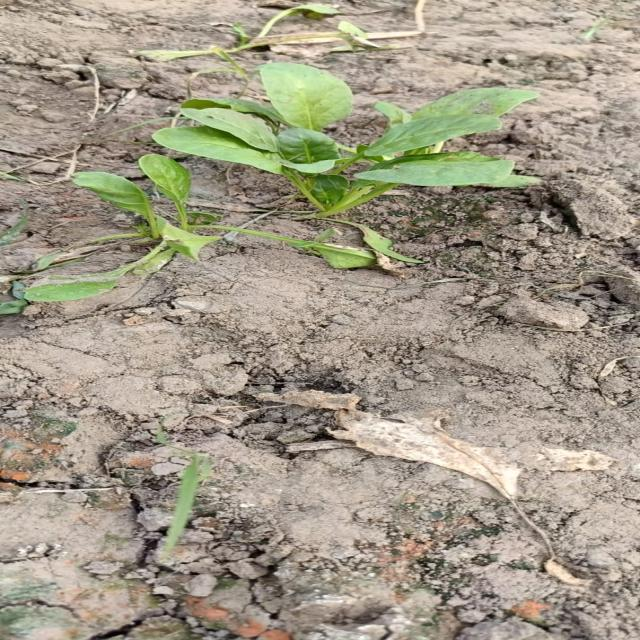plant: (151, 62, 539, 218), (20, 155, 224, 301), (247, 230, 421, 269)
